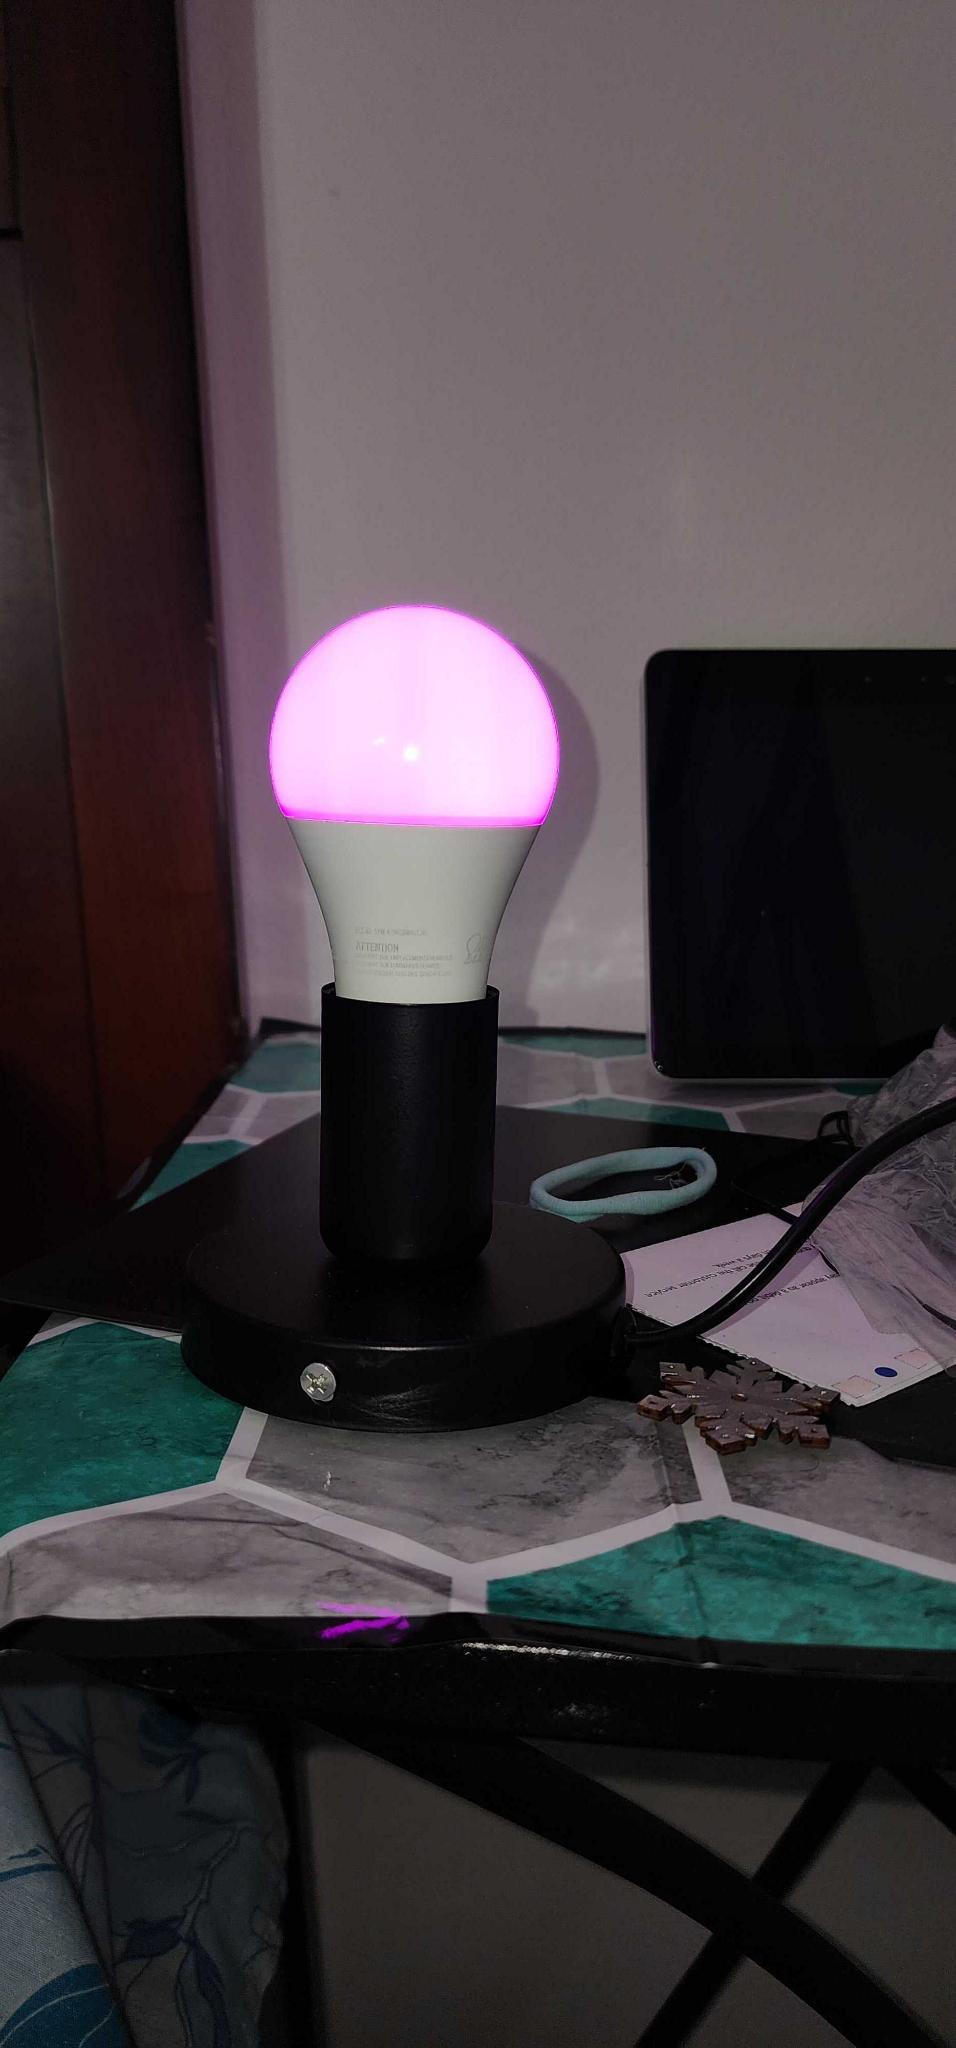TubeLight: (265, 603, 563, 1260)
